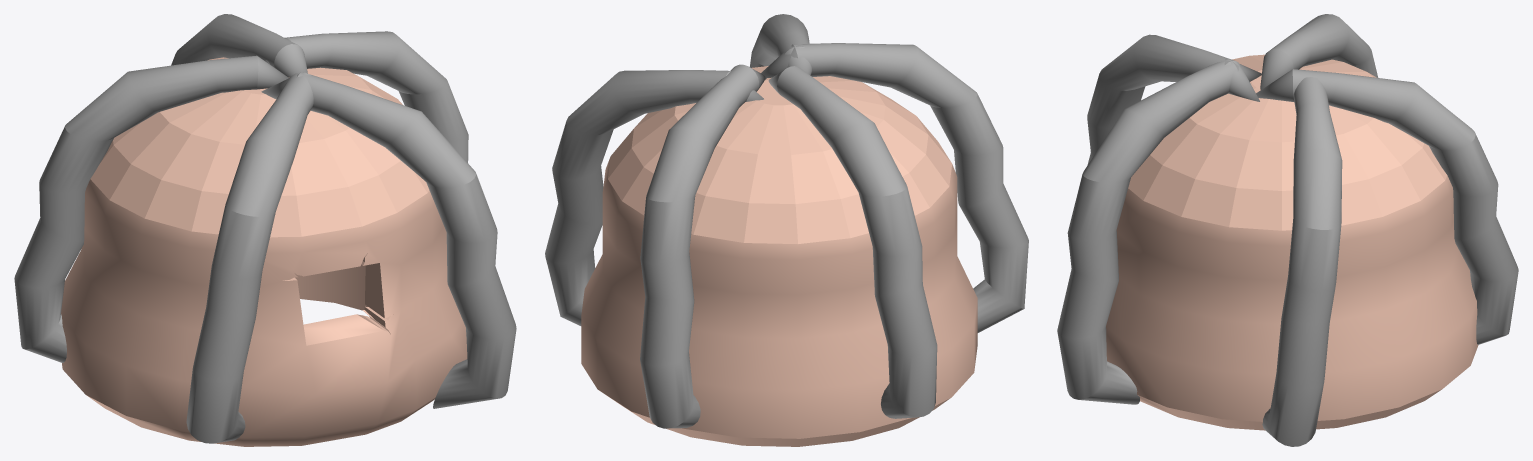
The model's file is Mamahouse2.fbx.
3 views of the same model, side by side, from view 1: azimuth 30°, elevation 25°; view 2: azimuth 150°, elevation 25°; view 3: azimuth 270°, elevation 25° (orthographic). The views are drawn at different scales.
Visible parts, largest first — view 1: House2; view 2: House2; view 3: House2.
Boxes of the visible parts, <box> form: House2: <box>14,14,516,446</box>; House2: <box>545,14,1028,446</box>; House2: <box>1057,14,1518,446</box>.
Bounding box in the file's own units: 68.31 × 48.9 × 65.81.
